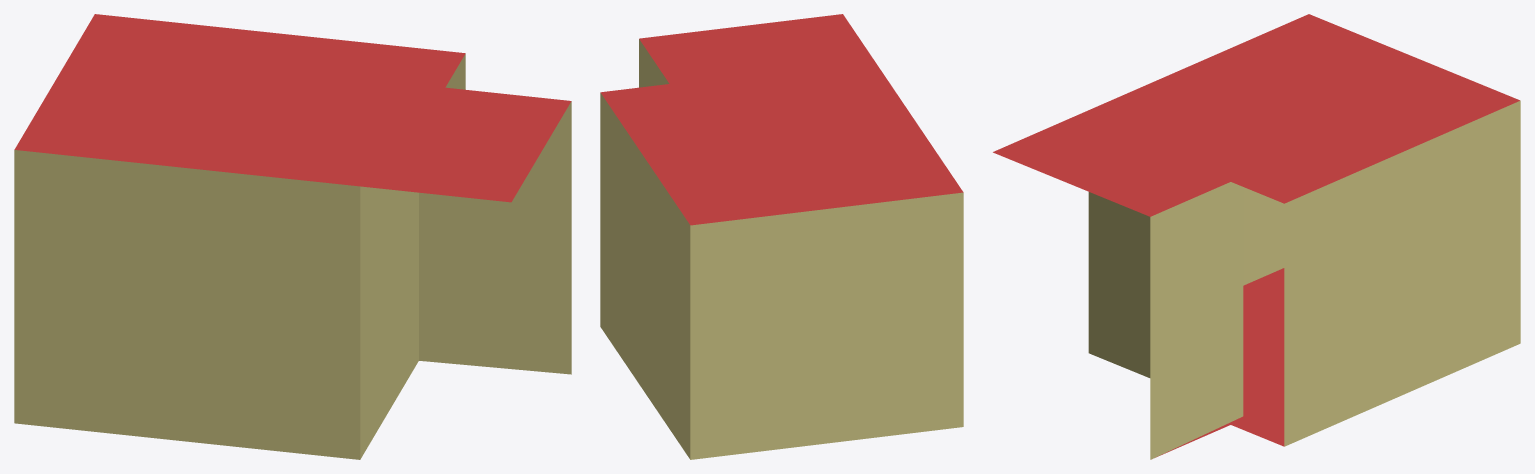
3 renders of one model, left to right at view 1: azimuth 30°, elevation 25°; view 2: azimuth 150°, elevation 25°; view 3: azimuth 270°, elevation 25°, orthographic. The views are drawn at different scales.
Bounding box in the file's own units: 9.82 × 10.81 × 5.49.
